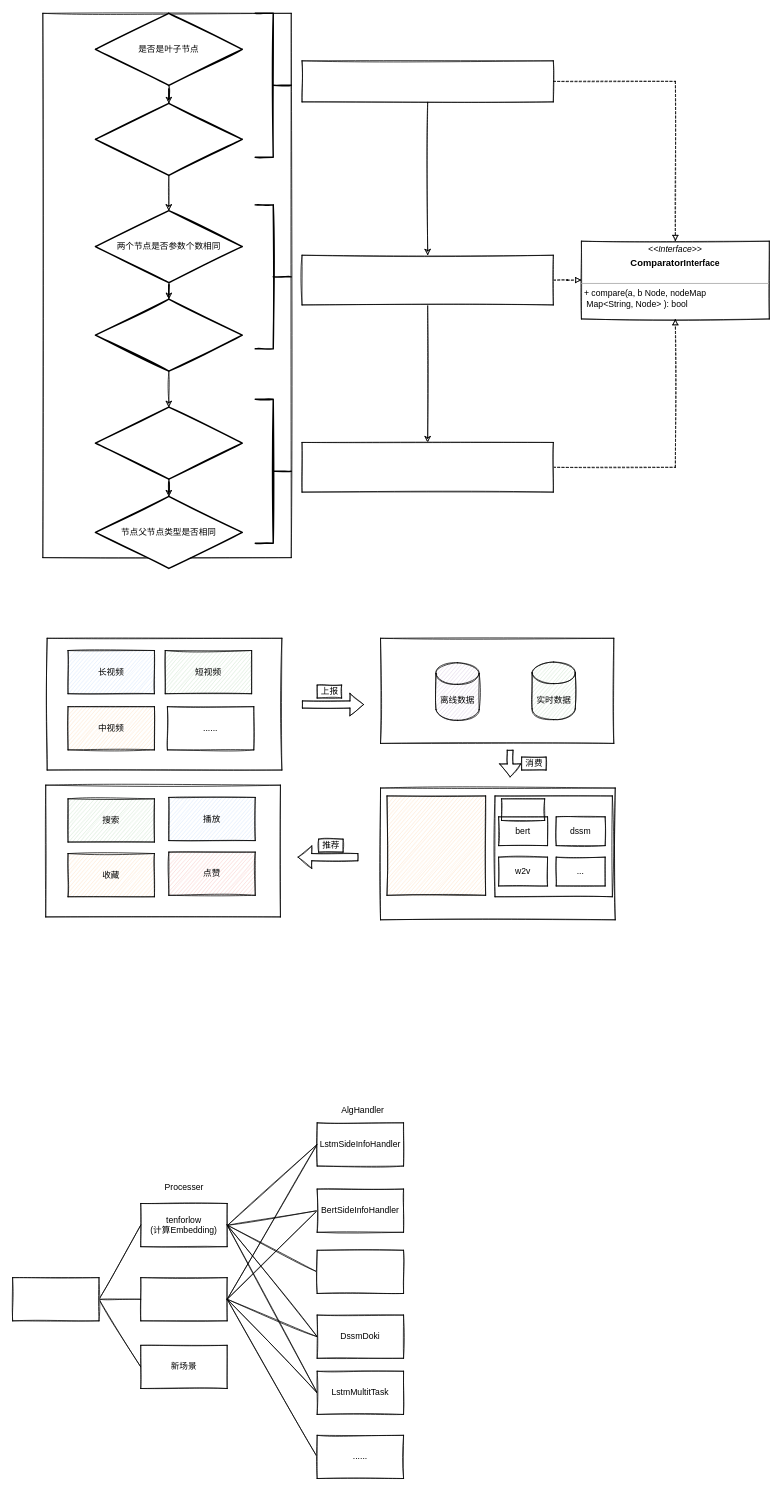
This 782x1491 diagram has some shape labels left out. Each missing label, with the box of its shape:
CalUserModel: (12, 1277, 99, 1321)
CurNodeComparator + compare(a, b Node, nodeMap Map<String, Node> ): bool: (301, 255, 553, 305)
LstmGame: (316, 1250, 404, 1293)
ParentComparator + compare(a, b Node, nodeMap Map<String, Node> ): bool: (301, 442, 553, 492)
Profile （查询用户画像): (140, 1277, 227, 1321)
ValidComparator + compare(a, b Node, nodeMap Map<String, Node> ): bool: (301, 60, 553, 102)
两个节点是否均为null或均为非null: (94, 102, 243, 176)
实时画像: (386, 795, 486, 895)
离线画像: (501, 798, 545, 820)
节点是否参数相同: (94, 298, 243, 372)
节点的父节点个数是否相同: (94, 406, 243, 480)
